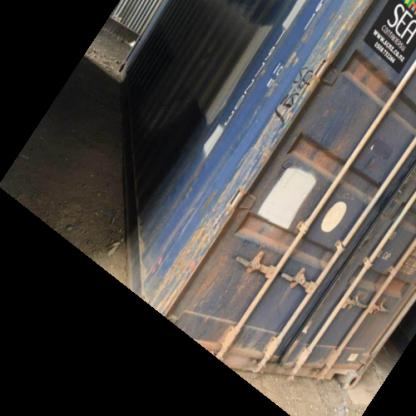Damage: (161, 221, 222, 320), (269, 60, 315, 122), (292, 135, 349, 185), (346, 50, 396, 100), (237, 209, 291, 244), (360, 269, 406, 297)
